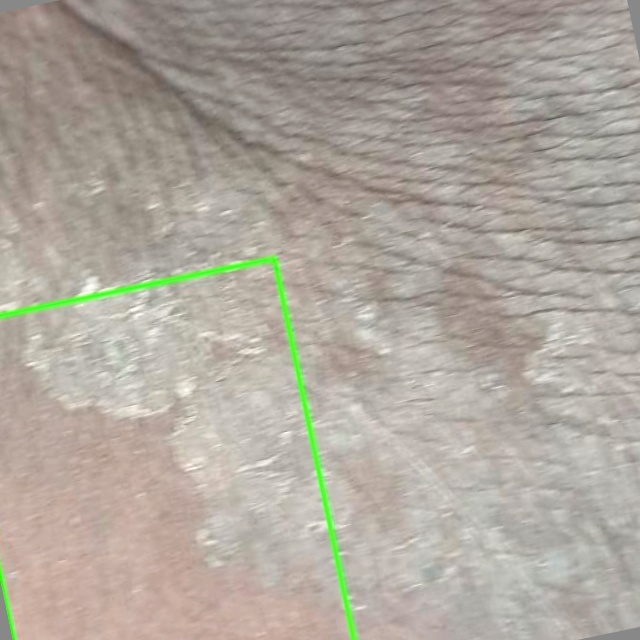Eczema: (0, 258, 353, 639)
